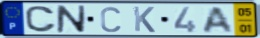4: (172, 6, 198, 33)
A: (201, 6, 235, 34)
C: (24, 5, 59, 33), (99, 6, 123, 33)
K: (132, 5, 157, 34)
N: (56, 4, 87, 34)
